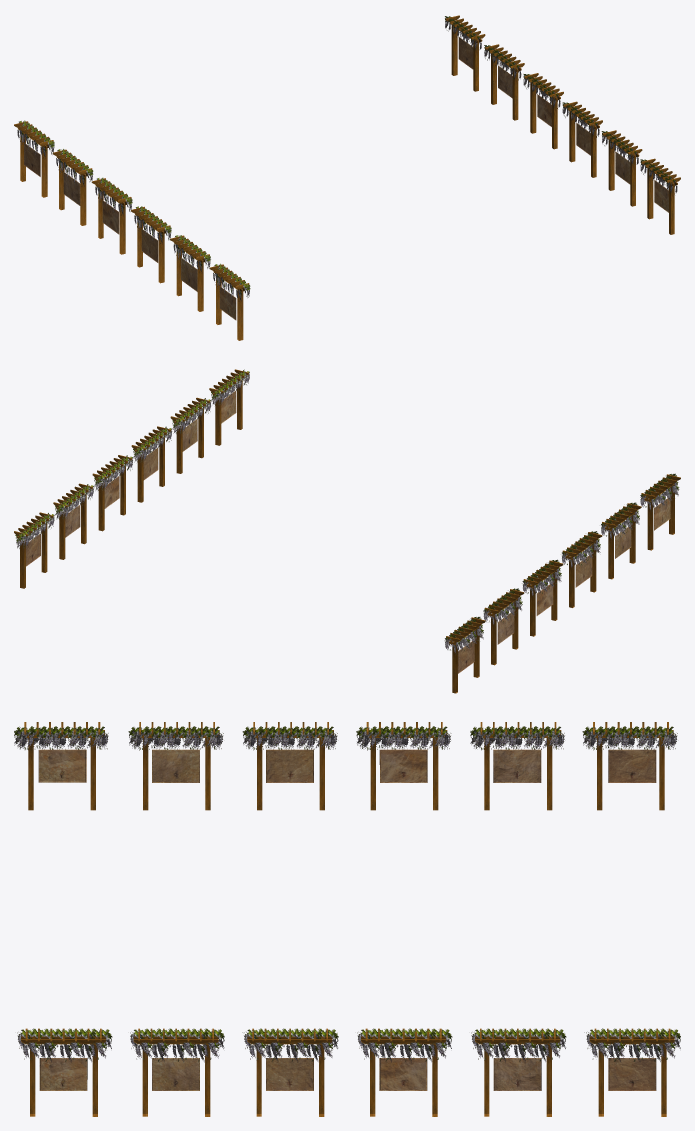
Rendered from wallboardtrellis.DAE.
The picture shows the model from 3 angles, top to bottom: view 1: azimuth 30°, elevation 25°; view 2: azimuth 150°, elevation 25°; view 3: azimuth 270°, elevation 25°; orthographic projection. The views are drawn at different scales.
Parts seen in each view (by area): view 1: trellis8, trellis7, trellis11, trellis9, trellis12, trellis10, trellis5, trellis3, trellis4, trellis2, trellis6, trellis1 (+2 smaller); view 2: trellis1, trellis6, trellis4, trellis2, trellis5, trellis3, trellis7, trellis12, trellis10, trellis8, trellis9, trellis11 (+12 smaller); view 3: plantWisteria_10, plantWisteria_7, plantWisteria_11, plantWisteria_8, plantWisteria_12, plantWisteria_9, plantWisteria_5, plantWisteria_1, plantWisteria_2, plantWisteria_3, plantWisteria_4, plantWisteria_6 (+24 smaller).
Part boxes in pixels (x1,y1,x2,y2): trellis8: [485, 44, 524, 120]; trellis7: [445, 15, 485, 91]; trellis11: [602, 130, 642, 206]; trellis9: [524, 73, 563, 149]; trellis12: [641, 158, 680, 234]; trellis10: [563, 101, 602, 177]; trellis5: [52, 149, 92, 225]; trellis3: [131, 206, 170, 283]; trellis4: [92, 178, 131, 254]; trellis2: [170, 235, 209, 311]; trellis6: [14, 121, 53, 197]; trellis1: [209, 264, 249, 340]; trellis1: [641, 474, 680, 550]; trellis6: [446, 617, 485, 693]; trellis4: [523, 560, 563, 636]; trellis2: [602, 503, 641, 579]; trellis5: [484, 589, 524, 665]; trellis3: [562, 532, 602, 607]; trellis7: [14, 512, 53, 588]; trellis12: [209, 369, 248, 445]; trellis10: [131, 426, 171, 502]; trellis8: [53, 483, 92, 559]; trellis9: [92, 455, 132, 531]; trellis11: [170, 397, 210, 473]; plantWisteria_10: [242, 1028, 338, 1062]; plantWisteria_7: [584, 1028, 680, 1061]; plantWisteria_11: [130, 1028, 224, 1062]; plantWisteria_8: [471, 1028, 566, 1062]; plantWisteria_12: [17, 1028, 112, 1062]; plantWisteria_9: [357, 1028, 452, 1062]; plantWisteria_5: [470, 726, 564, 750]; plantWisteria_1: [14, 726, 108, 749]; plantWisteria_2: [128, 726, 223, 750]; plantWisteria_3: [242, 726, 337, 750]; plantWisteria_4: [356, 726, 451, 750]; plantWisteria_6: [582, 726, 677, 750].
Size of the model in its own units: 21.62 by 19.13 by 2.7.
Materials: 3 (3 with a texture image).
